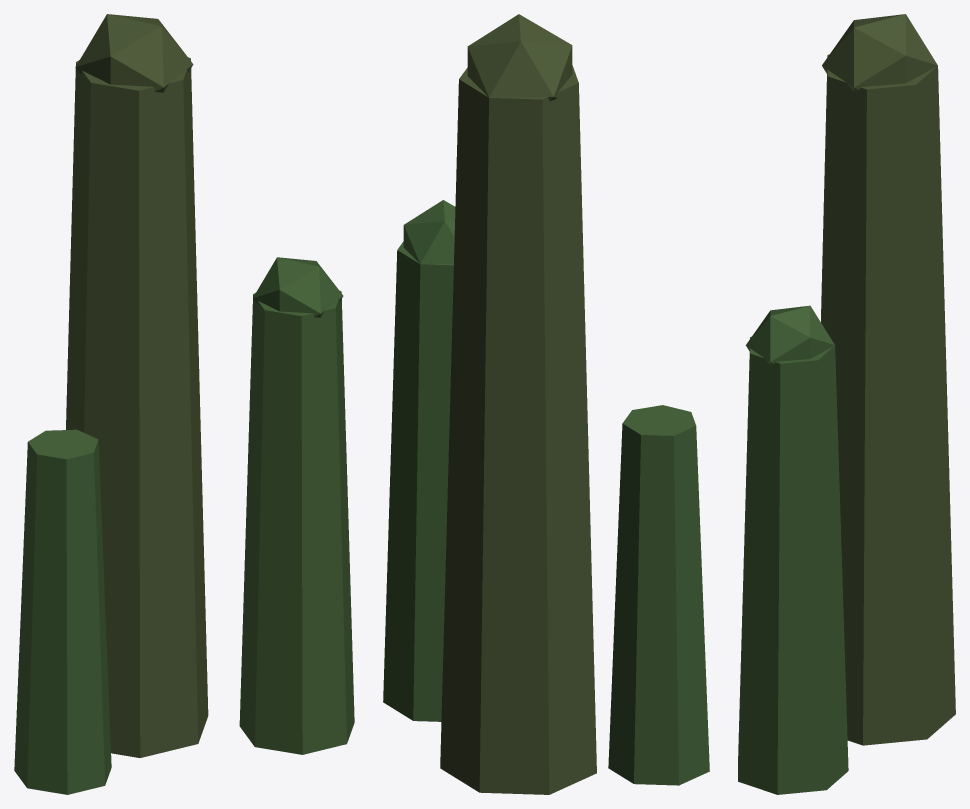
The model's file is SM_Cactus_C.glb.
3 views of the same model, side by side, from view 1: azimuth 30°, elevation 25°; view 2: azimuth 150°, elevation 25°; view 3: azimuth 270°, elevation 25° (orthographic). The views are drawn at different scales.
Parts seen in each view (by area): view 1: SM_Cactus_C; view 2: SM_Cactus_C; view 3: SM_Cactus_C.
Part boxes in pixels (bbox=[...]): SM_Cactus_C: bbox=[14, 14, 354, 794]; SM_Cactus_C: bbox=[383, 14, 709, 794]; SM_Cactus_C: bbox=[738, 14, 955, 794].
Bounding box in the file's own units: 0.794 × 1.71 × 0.4871.
Materials: 1 (1 with a texture image).
